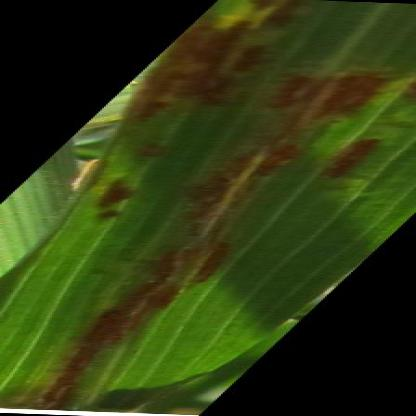wheat Stem Rust: (189, 140, 387, 212), (35, 304, 154, 403), (254, 60, 394, 128), (119, 244, 264, 293), (177, 39, 234, 106)
